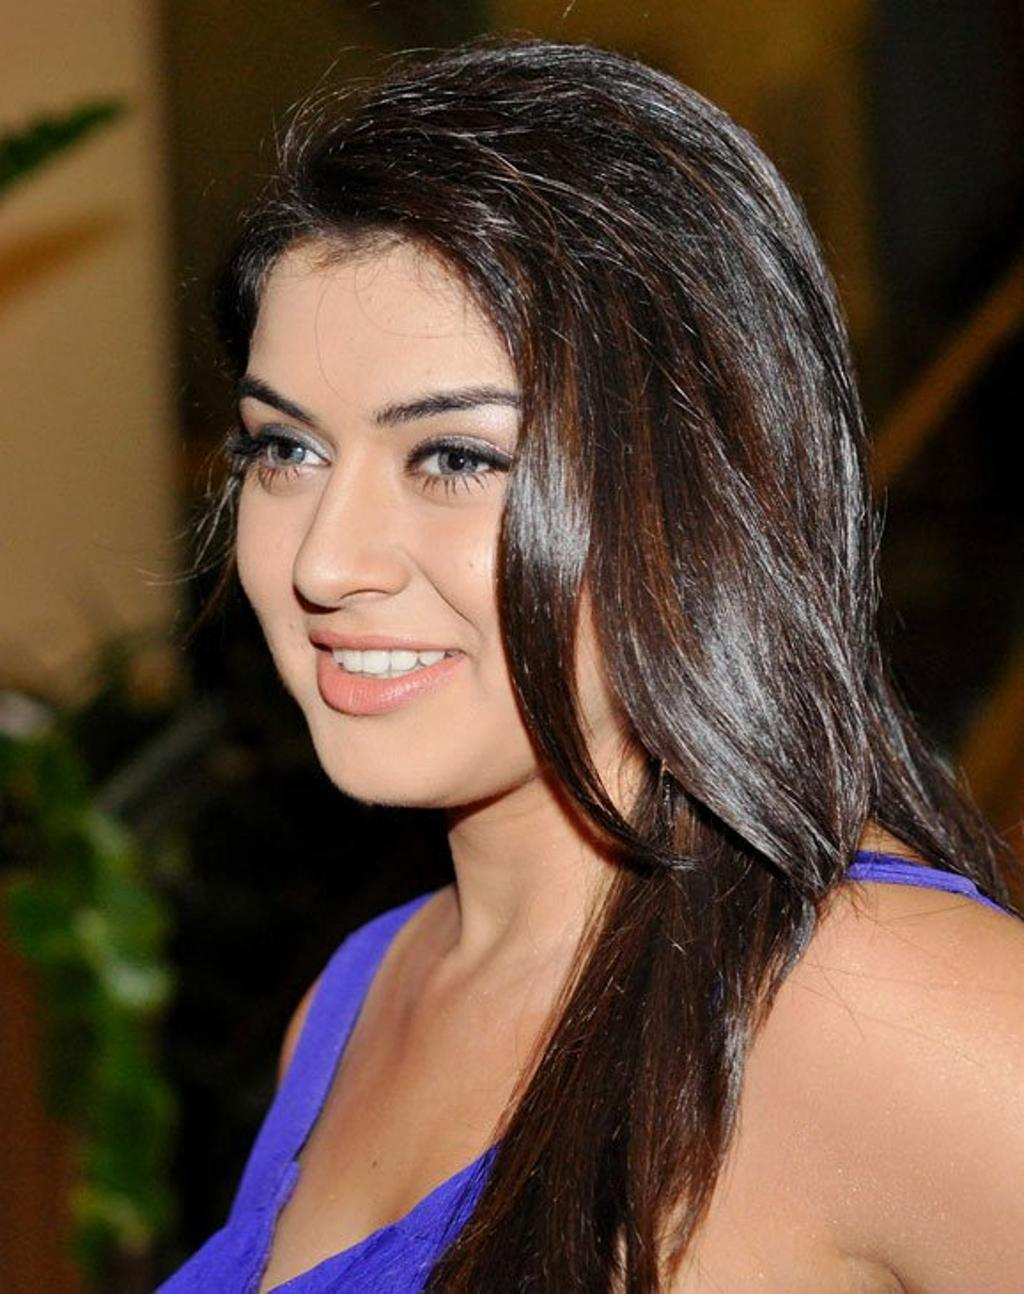face: (230, 230, 640, 796)
